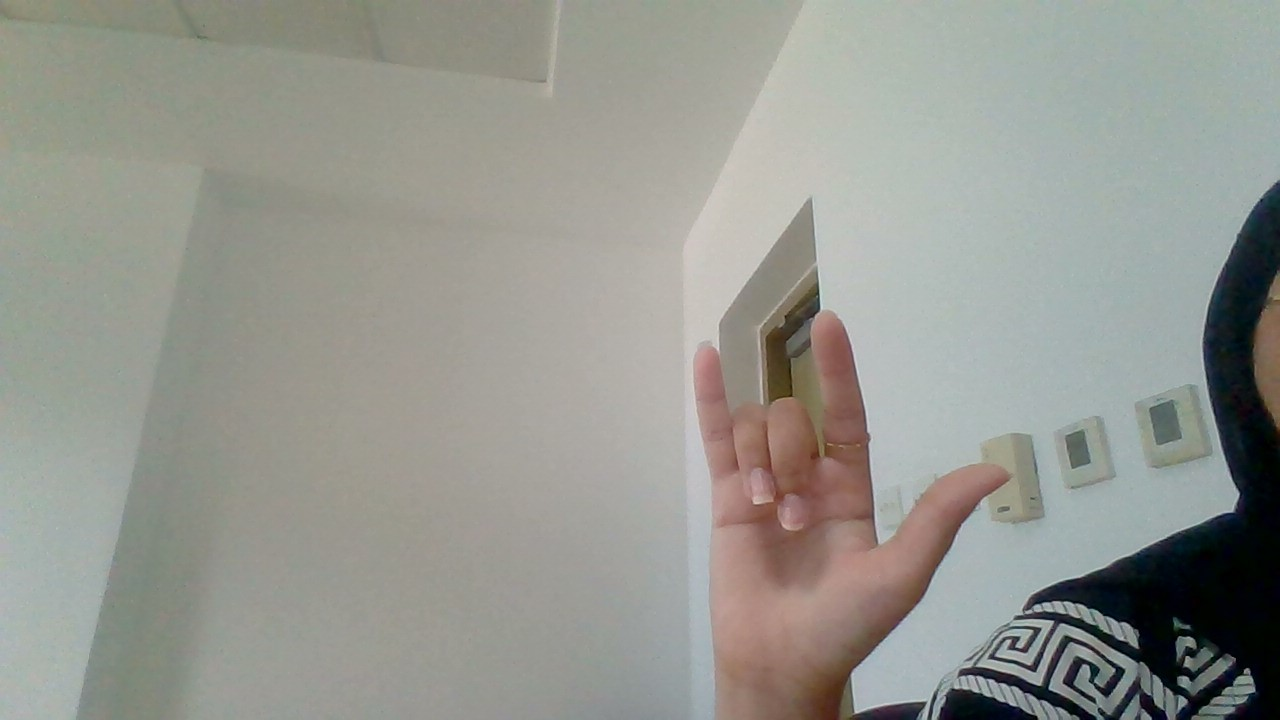love: (635, 289, 1020, 713)
